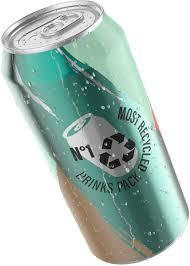metal: (0, 0, 188, 265)
